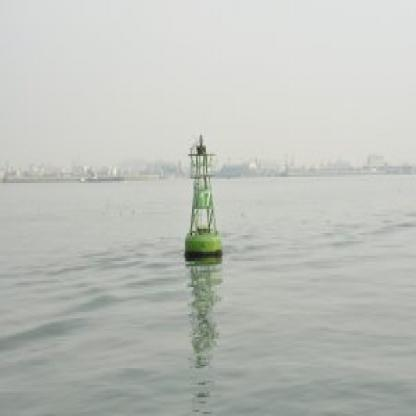buoy: (180, 125, 228, 264)
